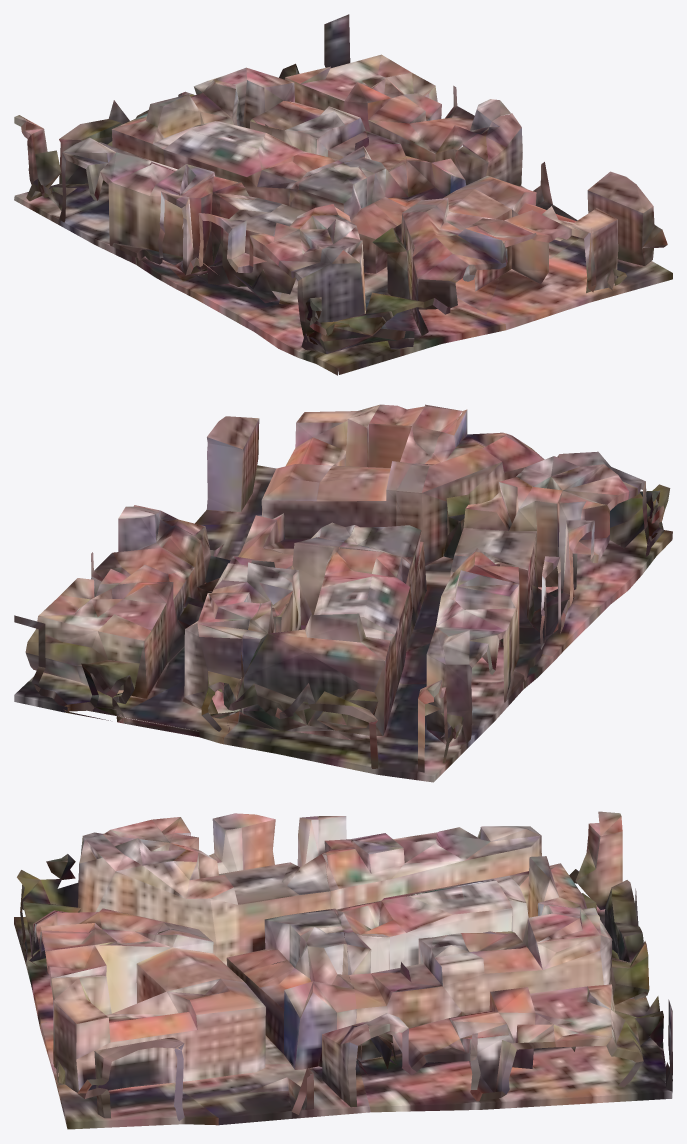
3 renders of one model, top to bottom at view 1: azimuth 30°, elevation 25°; view 2: azimuth 150°, elevation 25°; view 3: azimuth 270°, elevation 25°, orthographic. The views are drawn at different scales.
Visible parts, largest first — view 1: Mesh_0; view 2: Mesh_0; view 3: Mesh_0.
Part boxes in pixels (bbox=[...]): Mesh_0: bbox=[14, 14, 672, 375]; Mesh_0: bbox=[14, 404, 672, 782]; Mesh_0: bbox=[14, 811, 672, 1129].
Size of the model in its own units: 133 by 35.65 by 165.
1 material, 1 textured.
